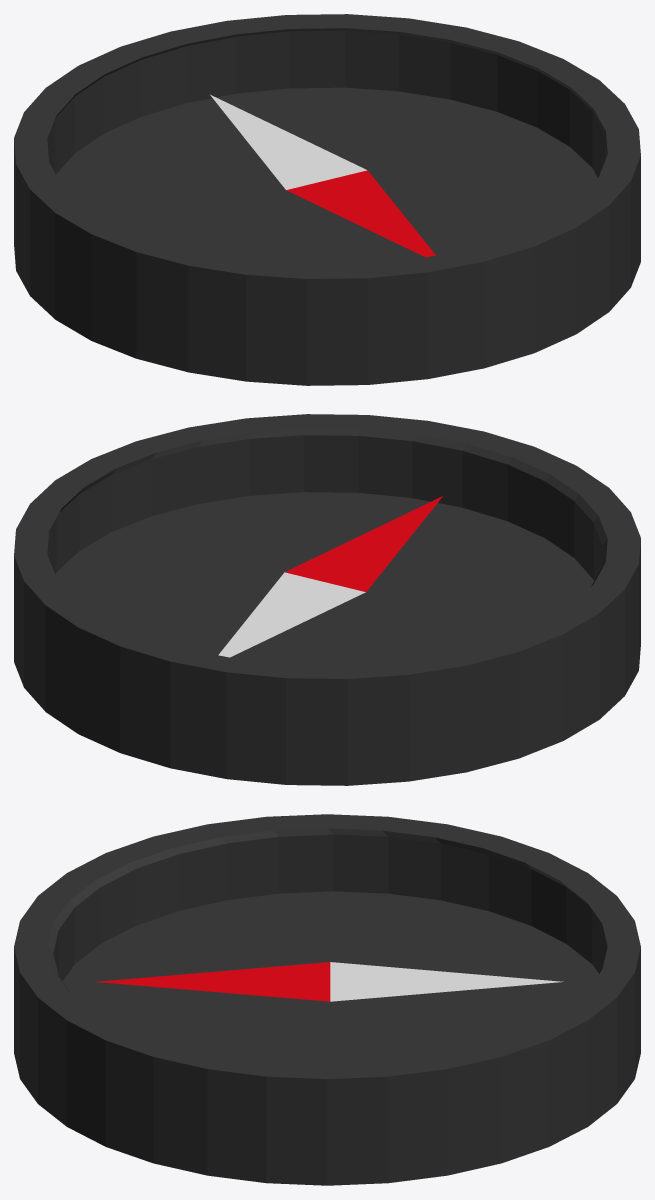
The model's file is Busola.fbx.
The picture shows the model from 3 angles, top to bottom: view 1: azimuth 30°, elevation 25°; view 2: azimuth 150°, elevation 25°; view 3: azimuth 270°, elevation 25°; orthographic projection.
Visible parts, largest first — view 1: Busola, Ac_Busola; view 2: Busola, Ac_Busola; view 3: Busola, Ac_Busola.
Boxes of the visible parts, x1,y1,x2,y2 form: Busola: (14, 14, 640, 385); Ac_Busola: (210, 94, 435, 257); Busola: (14, 414, 640, 785); Ac_Busola: (218, 496, 442, 657); Busola: (14, 814, 640, 1185); Ac_Busola: (95, 962, 563, 1001).
Size of the model in its own units: 8 by 1.5 by 8.
